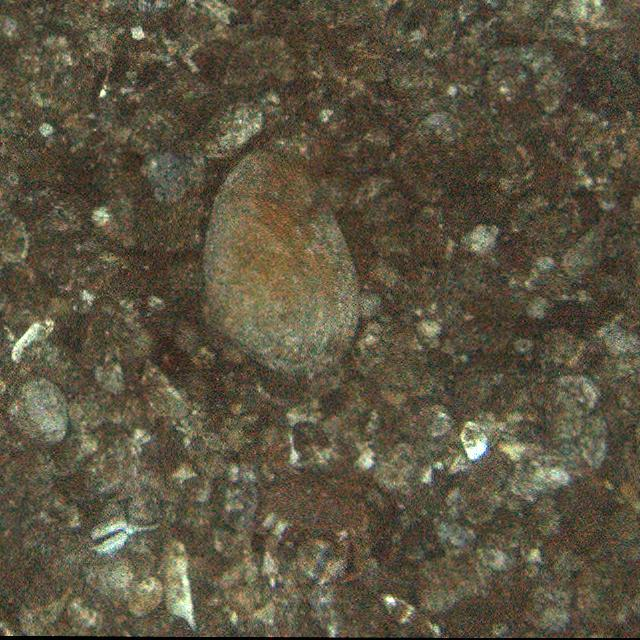crab: (226, 449, 388, 580)
